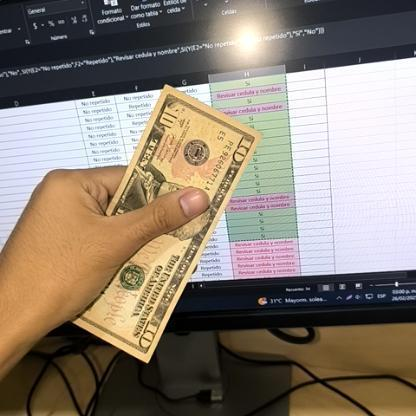ten-front: (63, 82, 262, 366)
